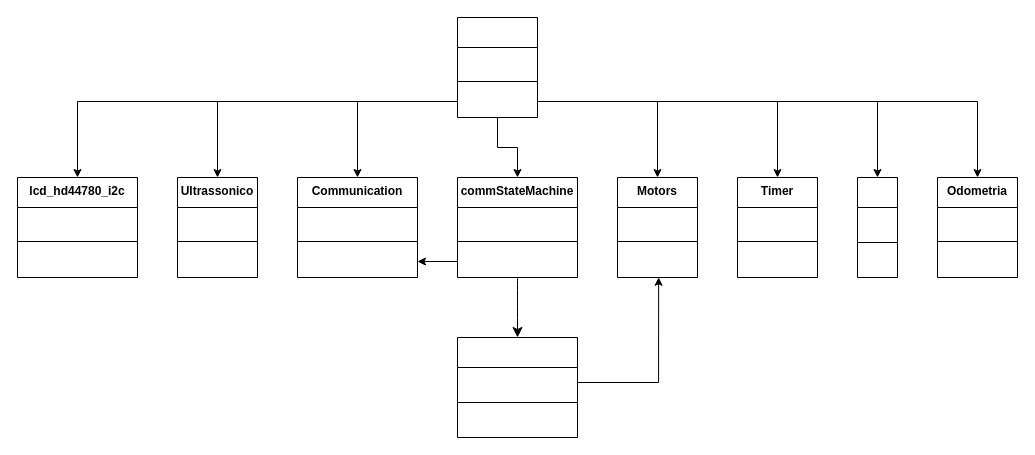
The diagram is 1035 pixels wide and 455 high, and some of its shapes have lost their labels. Here are the shapes that lost their labels. From the top down, the centre of each, then its label:
the point at 497,67: main
the point at 877,227: Pid
the point at 517,387: BleCmd
